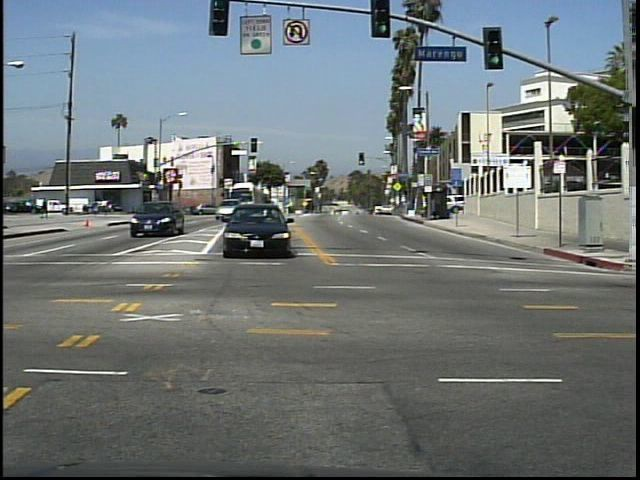person: (40, 194, 54, 222)
